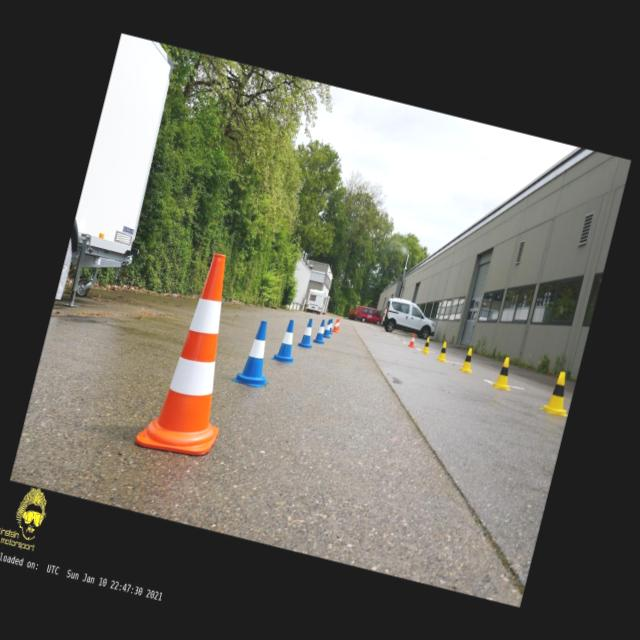blue_cone: (231, 316, 282, 389), (270, 316, 302, 364), (298, 316, 318, 348), (313, 318, 329, 344), (322, 318, 334, 338), (327, 318, 335, 334)
large_orange_cone: (134, 245, 260, 462)
orange_cone: (408, 332, 417, 348), (331, 318, 340, 332), (335, 318, 341, 330)
yellow_cone: (540, 368, 576, 418), (491, 355, 516, 390), (459, 346, 477, 373), (435, 340, 450, 362), (420, 336, 432, 354)
